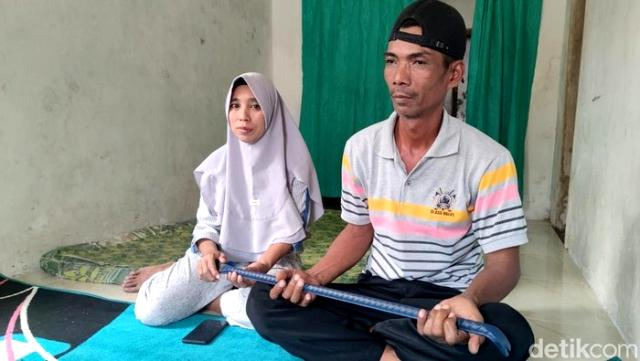crow bar: (213, 258, 515, 360)
